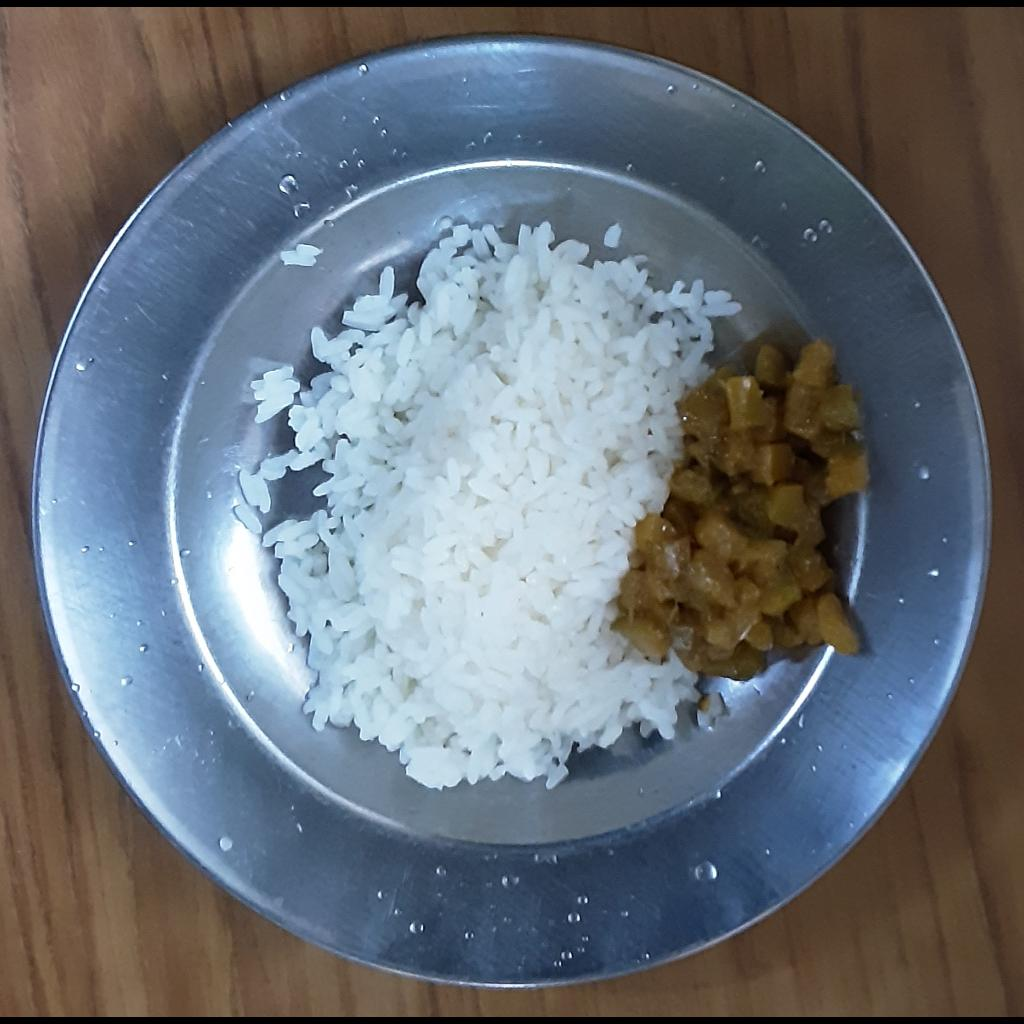kumra-vaji: (622, 336, 872, 682)
rice: (222, 220, 738, 791)
